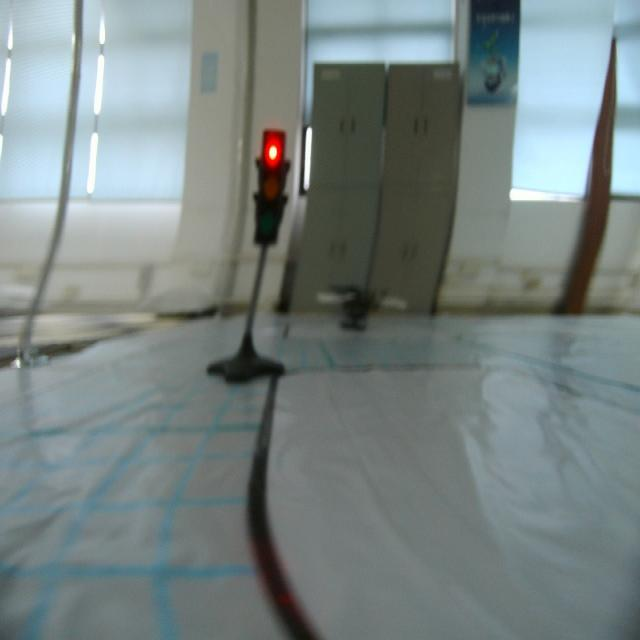red: (250, 117, 292, 257)
